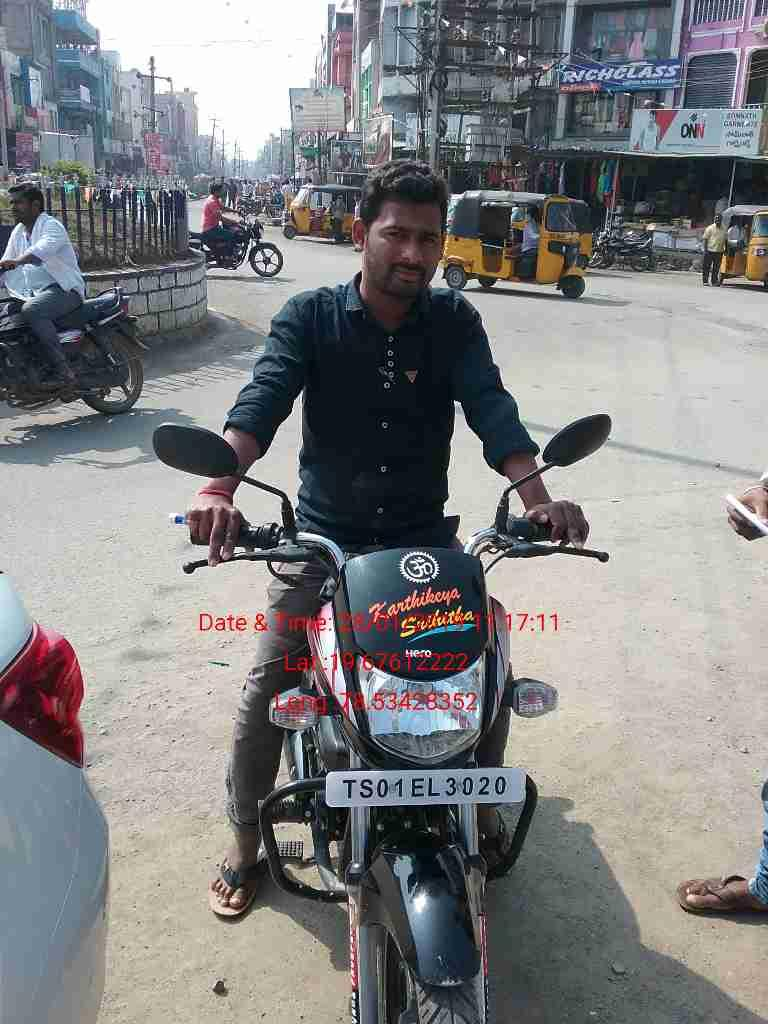plate: (325, 764, 530, 813)
